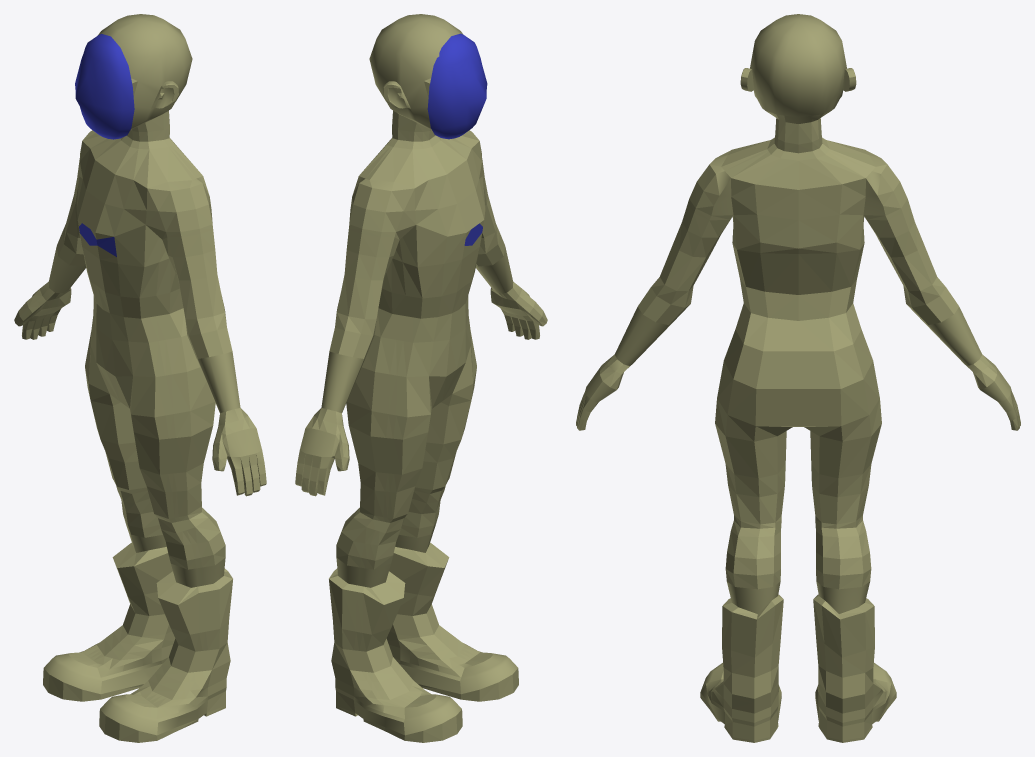
File: TempFishMan.FBX
3 views of the same model, side by side, from view 1: azimuth 30°, elevation 25°; view 2: azimuth 150°, elevation 25°; view 3: azimuth 270°, elevation 25° (orthographic). The views are drawn at different scales.
Parts seen in each view (by area): view 1: TempFishMan; view 2: TempFishMan; view 3: TempFishMan.
Part boxes in pixels (box(x1,y1,x2,y2)): TempFishMan: box(14, 14, 266, 742); TempFishMan: box(295, 14, 547, 742); TempFishMan: box(576, 14, 1020, 742).
Size of the model in its own units: 16.33 by 79.84 by 46.44.
